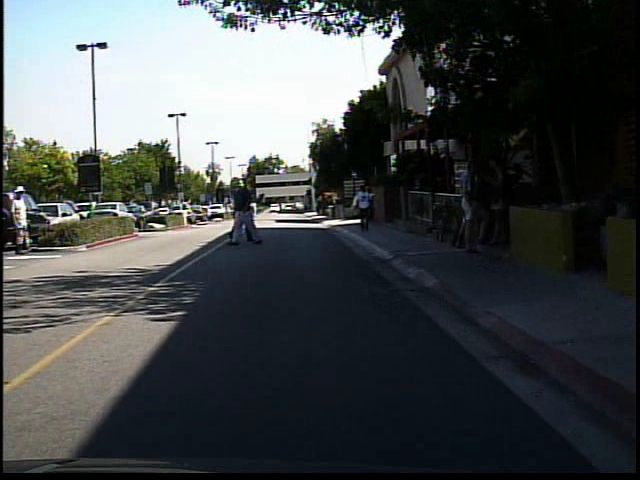person: (451, 150, 490, 259), (483, 157, 511, 252), (227, 175, 262, 246), (228, 173, 261, 247), (12, 183, 37, 257), (351, 180, 377, 237), (180, 194, 196, 227), (246, 198, 261, 222)
